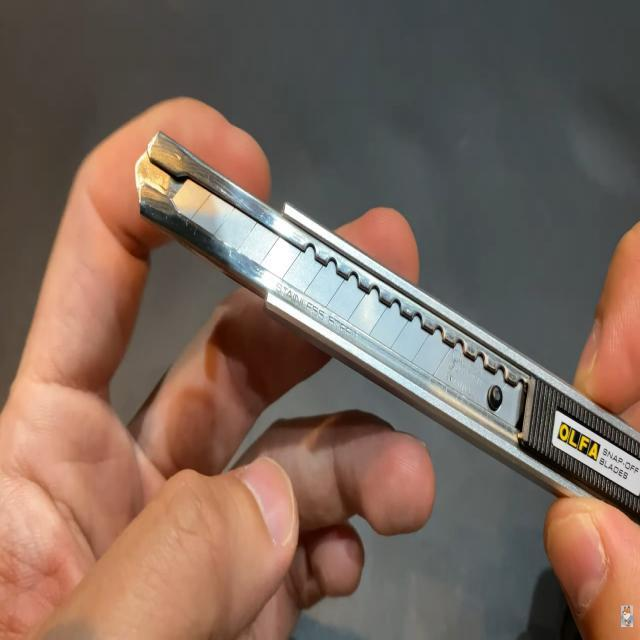cutter: (109, 41, 640, 597)
